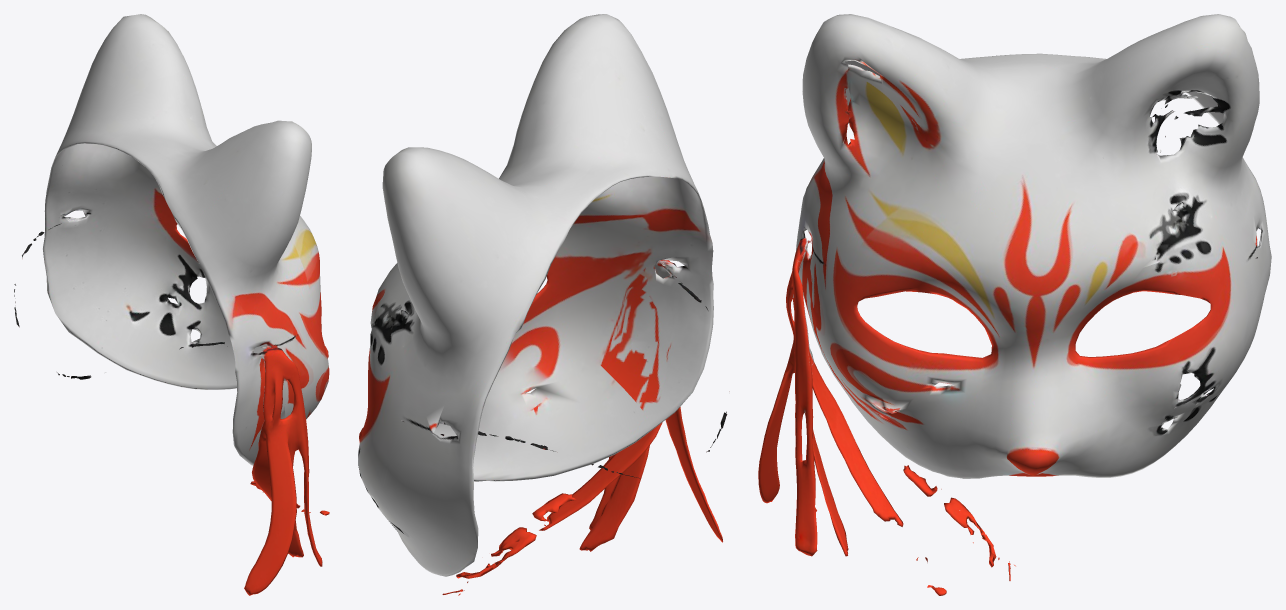
Rendered from Mask.fbx.
3 views of the same model, side by side, from view 1: azimuth 30°, elevation 25°; view 2: azimuth 150°, elevation 25°; view 3: azimuth 270°, elevation 25° (orthographic). The views are drawn at different scales.
Visible parts, largest first — view 1: tripo_node_4554b308; view 2: tripo_node_4554b308; view 3: tripo_node_4554b308.
Part boxes in pixels (left/top/right/bottom): tripo_node_4554b308: left=14, top=14, right=329, bottom=595; tripo_node_4554b308: left=358, top=14, right=729, bottom=595; tripo_node_4554b308: left=758, top=14, right=1271, bottom=595.
Bounding box in the file's own units: 0.6546 × 0.9917 × 0.866.
